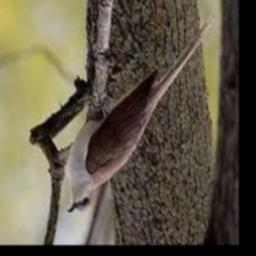Cuckoo: (68, 13, 216, 215)
